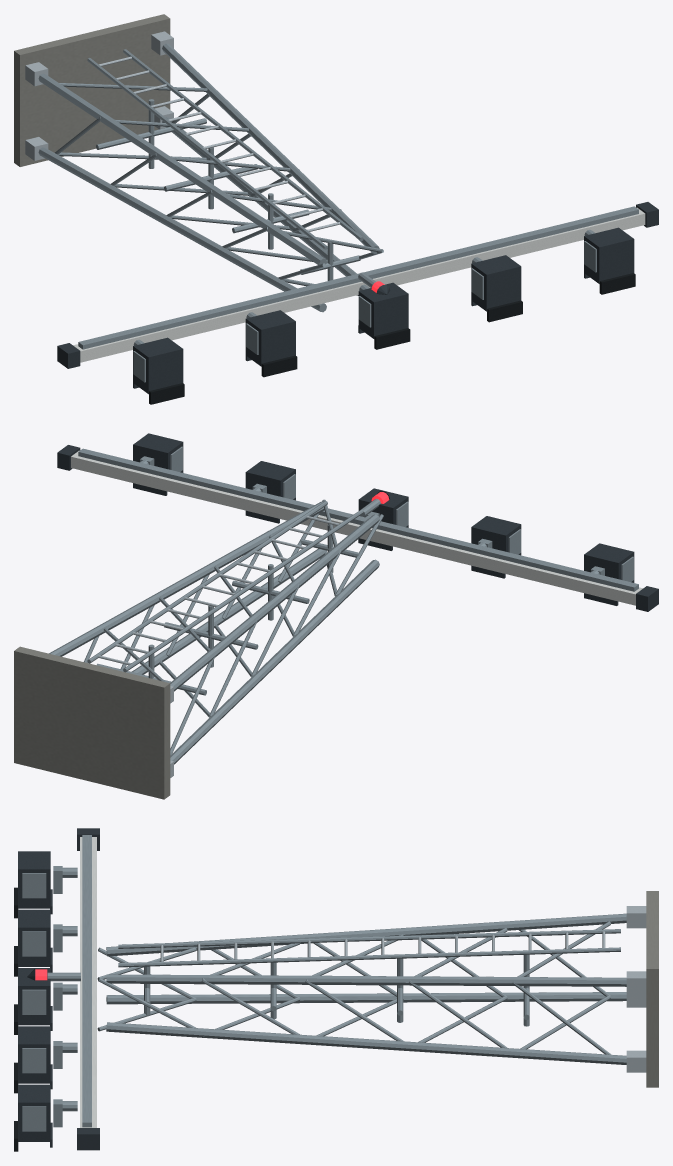
File: PZ_Approach_Light_Tower_5x.glb
3 renders of one model, top to bottom at view 1: azimuth 30°, elevation 25°; view 2: azimuth 150°, elevation 25°; view 3: azimuth 270°, elevation 25°, orthographic. The views are drawn at different scales.
Visible parts, largest first — view 1: PZ_Approach_Light_Tower_5x__TowerFoot_Center, PZ_Approach_Light_Tower_5x, PZ_Approach_Light_Tower_5x__LightBank_Crossbar, PZ_Approach_Light_Tower_5x__Crossbar_Core, PZ_Approach_Light_Tower_5x__LatticeLeg_-1_-1, PZ_Approach_Light_Tower_5x__ApproachLight_2_LampBody, PZ_Approach_Light_Tower_5x__ApproachLight_1_LampBody, PZ_Approach_Light_Tower_5x__ApproachLight_4_LampBody, PZ_Approach_Light_Tower_5x__ApproachLight_5_LampBody, PZ_Approach_Light_Tower_5x__ApproachLight_3_LampBody, PZ_Approach_Light_Tower_5x__Ladder_Rail_-1, PZ_Approach_Light_Tower_5x__LatticeLeg_1_-1; view 2: PZ_Approach_Light_Tower_5x__TowerFoot_Center, PZ_Approach_Light_Tower_5x, PZ_Approach_Light_Tower_5x__LightBank_Crossbar, PZ_Approach_Light_Tower_5x__Crossbar_Core, PZ_Approach_Light_Tower_5x__LatticeLeg_-1_-1, PZ_Approach_Light_Tower_5x__LatticeLeg_1_-1, PZ_Approach_Light_Tower_5x__Ladder_Rail_-1, PZ_Approach_Light_Tower_5x__ApproachLight_1_LampBody, PZ_Approach_Light_Tower_5x__ApproachLight_5_LampBody, PZ_Approach_Light_Tower_5x__ApproachLight_2_LampBody, PZ_Approach_Light_Tower_5x__ApproachLight_4_LampBody, PZ_Approach_Light_Tower_5x__ApproachLight_3_LampBody; view 3: PZ_Approach_Light_Tower_5x, PZ_Approach_Light_Tower_5x__LatticeLeg_1_-1, PZ_Approach_Light_Tower_5x__LatticeLeg_-1_-1, PZ_Approach_Light_Tower_5x__Crossbar_Core, PZ_Approach_Light_Tower_5x__TowerFoot_Center, PZ_Approach_Light_Tower_5x__Ladder_Rail_-1, PZ_Approach_Light_Tower_5x__LightBank_Crossbar, PZ_Approach_Light_Tower_5x__ApproachLight_2_LampBody, PZ_Approach_Light_Tower_5x__ApproachLight_5_LampBody, PZ_Approach_Light_Tower_5x__ApproachLight_1_LampBody, PZ_Approach_Light_Tower_5x__ApproachLight_4_LampBody, PZ_Approach_Light_Tower_5x__ApproachLight_3_LampBody (+12 smaller).
Part boxes in pixels (<box>): PZ_Approach_Light_Tower_5x__TowerFoot_Center: <box>14,14,170,166</box>; PZ_Approach_Light_Tower_5x: <box>25,31,595,345</box>; PZ_Approach_Light_Tower_5x__LightBank_Crossbar: <box>73,207,645,362</box>; PZ_Approach_Light_Tower_5x__Crossbar_Core: <box>78,206,638,349</box>; PZ_Approach_Light_Tower_5x__LatticeLeg_-1_-1: <box>38,147,326,312</box>; PZ_Approach_Light_Tower_5x__ApproachLight_2_LampBody: <box>245,310,295,366</box>; PZ_Approach_Light_Tower_5x__ApproachLight_1_LampBody: <box>133,337,183,394</box>; PZ_Approach_Light_Tower_5x__ApproachLight_4_LampBody: <box>471,255,521,311</box>; PZ_Approach_Light_Tower_5x__ApproachLight_5_LampBody: <box>584,227,634,283</box>; PZ_Approach_Light_Tower_5x__ApproachLight_3_LampBody: <box>358,282,408,338</box>; PZ_Approach_Light_Tower_5x__Ladder_Rail_-1: <box>87,58,327,249</box>; PZ_Approach_Light_Tower_5x__LatticeLeg_1_-1: <box>162,117,356,276</box>; PZ_Approach_Light_Tower_5x__TowerFoot_Center: <box>14,646,170,799</box>; PZ_Approach_Light_Tower_5x: <box>49,459,599,703</box>; PZ_Approach_Light_Tower_5x__LightBank_Crossbar: <box>71,450,642,605</box>; PZ_Approach_Light_Tower_5x__Crossbar_Core: <box>78,448,638,591</box>; PZ_Approach_Light_Tower_5x__LatticeLeg_-1_-1: <box>170,559,379,764</box>; PZ_Approach_Light_Tower_5x__LatticeLeg_1_-1: <box>131,548,326,674</box>; PZ_Approach_Light_Tower_5x__Ladder_Rail_-1: <box>123,509,363,672</box>; PZ_Approach_Light_Tower_5x__ApproachLight_1_LampBody: <box>584,543,634,582</box>; PZ_Approach_Light_Tower_5x__ApproachLight_5_LampBody: <box>133,433,183,472</box>; PZ_Approach_Light_Tower_5x__ApproachLight_2_LampBody: <box>471,516,521,555</box>; PZ_Approach_Light_Tower_5x__ApproachLight_4_LampBody: <box>245,461,295,500</box>; PZ_Approach_Light_Tower_5x__ApproachLight_3_LampBody: <box>358,488,408,527</box>; PZ_Approach_Light_Tower_5x: <box>60,867,646,1111</box>; PZ_Approach_Light_Tower_5x__LatticeLeg_1_-1: <box>106,1022,626,1064</box>; PZ_Approach_Light_Tower_5x__LatticeLeg_-1_-1: <box>106,992,626,1004</box>; PZ_Approach_Light_Tower_5x__Crossbar_Core: <box>82,835,91,1127</box>; PZ_Approach_Light_Tower_5x__TowerFoot_Center: <box>646,891,658,1087</box>; PZ_Approach_Light_Tower_5x__Ladder_Rail_-1: <box>118,929,620,948</box>; PZ_Approach_Light_Tower_5x__LightBank_Crossbar: <box>80,837,96,1127</box>; PZ_Approach_Light_Tower_5x__ApproachLight_2_LampBody: <box>18,909,50,966</box>; PZ_Approach_Light_Tower_5x__ApproachLight_5_LampBody: <box>18,1084,50,1141</box>; PZ_Approach_Light_Tower_5x__ApproachLight_1_LampBody: <box>18,851,50,908</box>; PZ_Approach_Light_Tower_5x__ApproachLight_4_LampBody: <box>18,1026,50,1083</box>; PZ_Approach_Light_Tower_5x__ApproachLight_3_LampBody: <box>18,968,50,1025</box>.
Size of the model in its own units: 6.29 by 1.14 by 5.61.
Materials: 2 (2 with a texture image).
